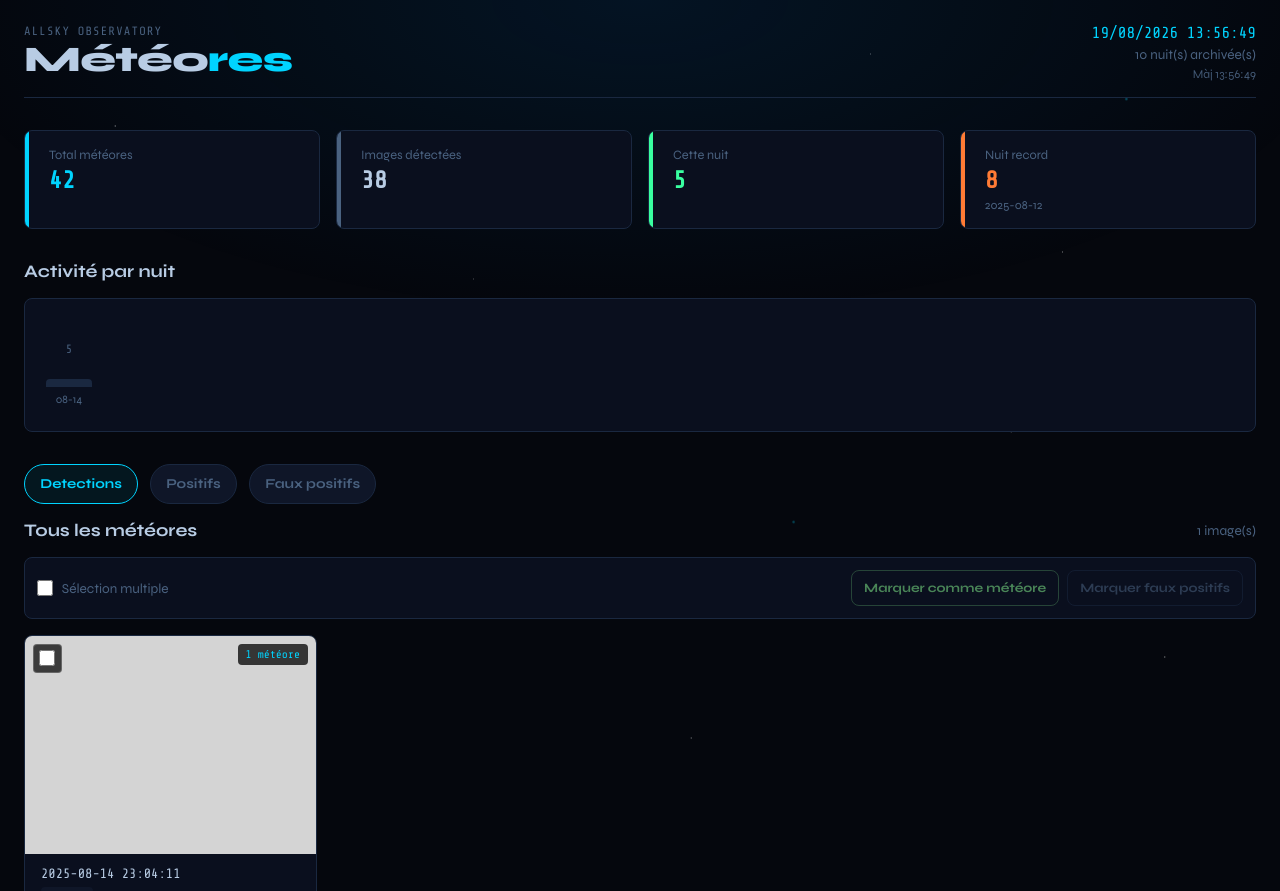
Scenario: Dashboard › resets the filter when clicking "Toutes les nuits"
Click the button titled "2025-08-14 — 5 météore(s)".
click(69, 365)  # box [41,315,97,415]
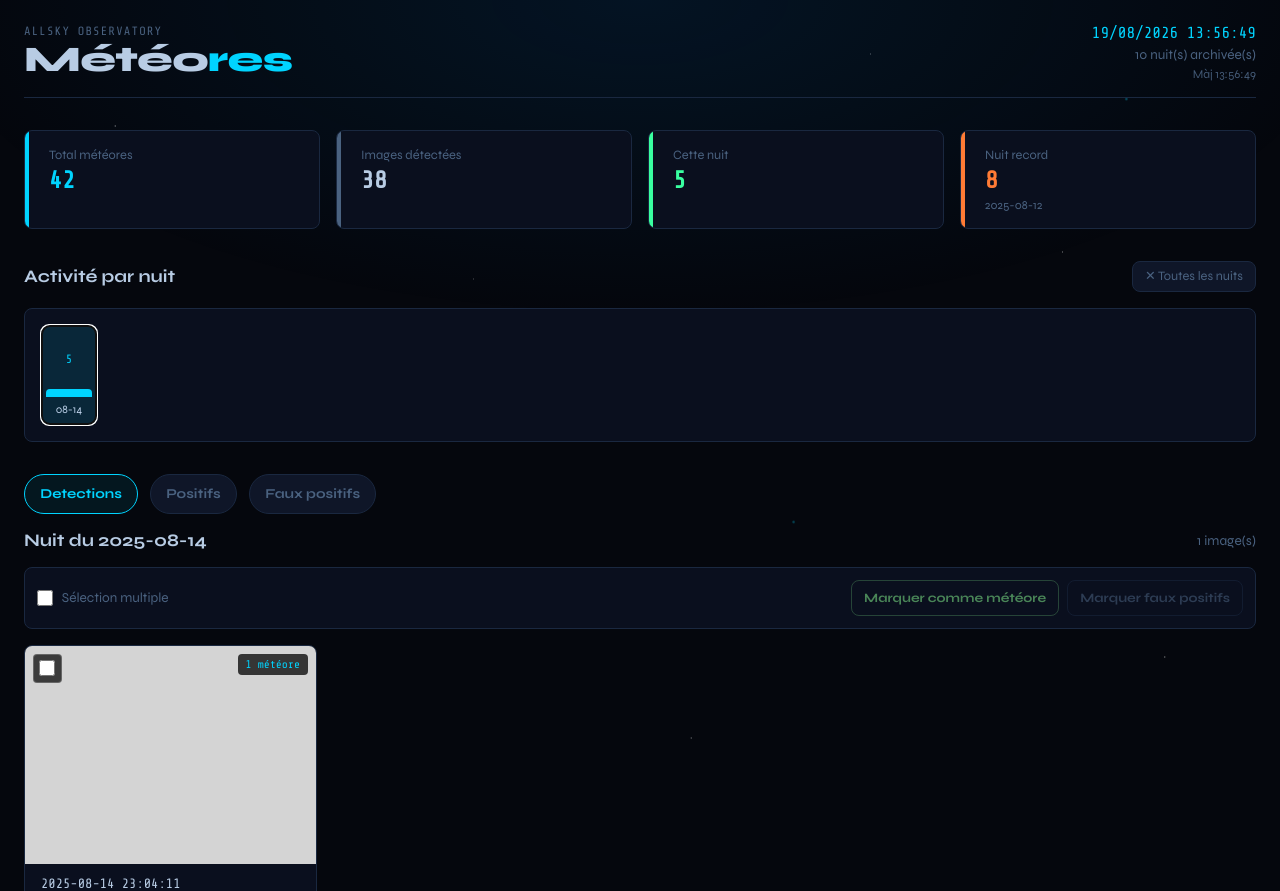
Click the button "✕ Toutes les nuits".
click(1194, 276)  # box [1132,261,1256,292]
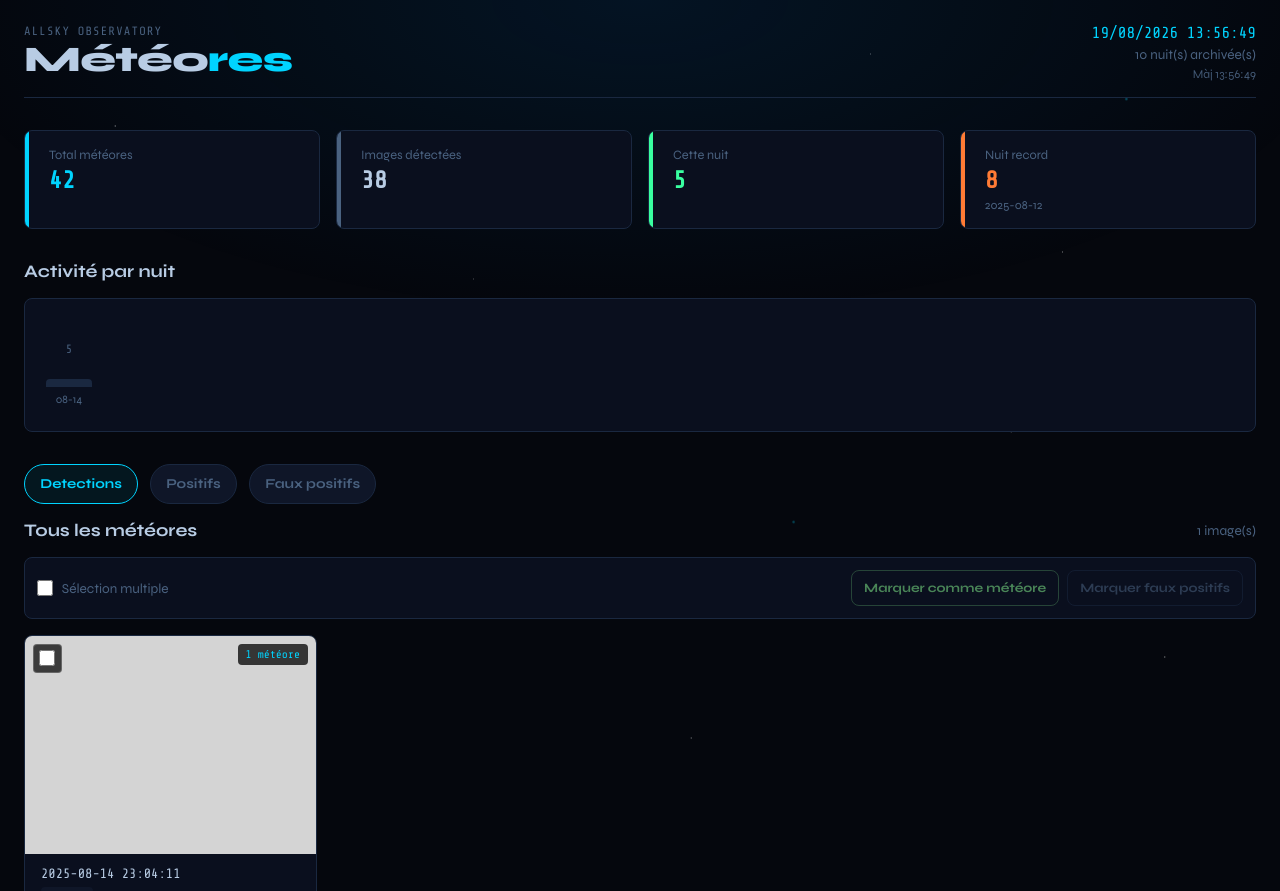
Expected: the heading "Tous les météores" is shown, [24,520,197,541]
Expected: the button "✕ Toutes les nuits" is gone
